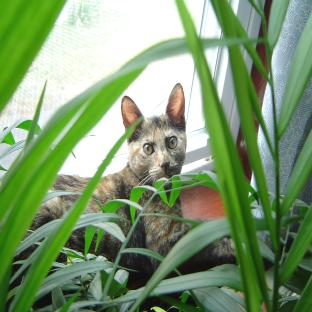Animal: (83, 83, 187, 214), (127, 195, 193, 257), (30, 194, 79, 231), (193, 236, 235, 266), (120, 253, 161, 277), (90, 231, 122, 261), (51, 175, 91, 193), (122, 96, 143, 130), (65, 228, 87, 252), (116, 204, 132, 236)
